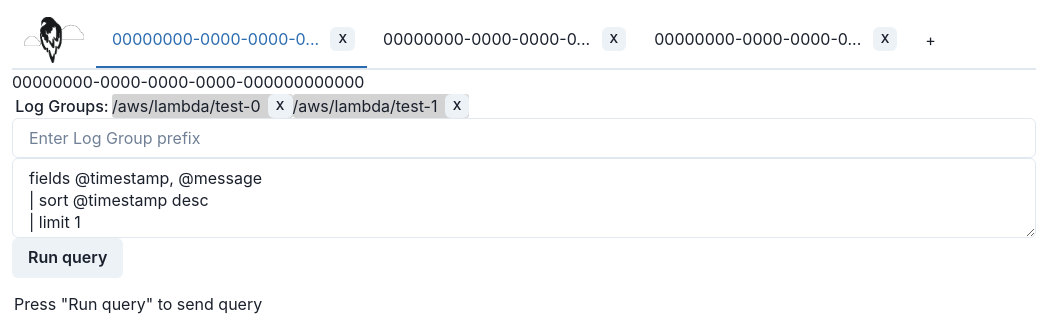
dashboard › should allow user to create a new query by pressing new tab button
Check: the text with test id "query-title" reads "00000000-0000-0000-0000-000000000000", box x1=12 y1=72 x2=364 y2=92
Click the tab "+".
click(931, 41)  # box x1=909 y1=12 x2=952 y2=70
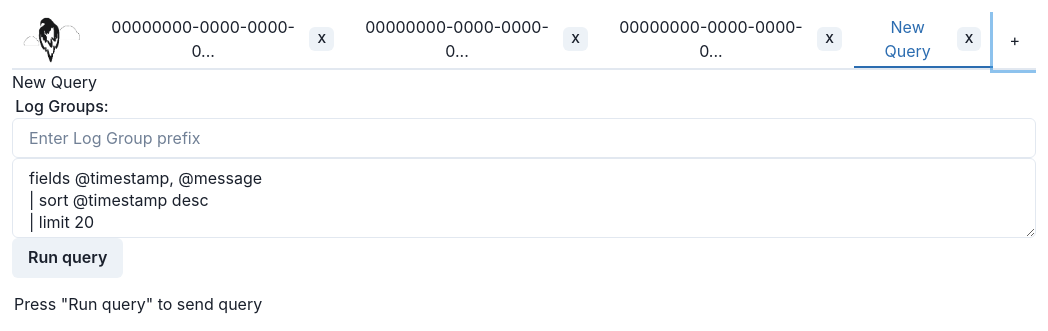
Check: the tab "+" is shown, box x1=993 y1=12 x2=1036 y2=70
Check: the tab "New Query" is shown, box x1=854 y1=12 x2=993 y2=68
